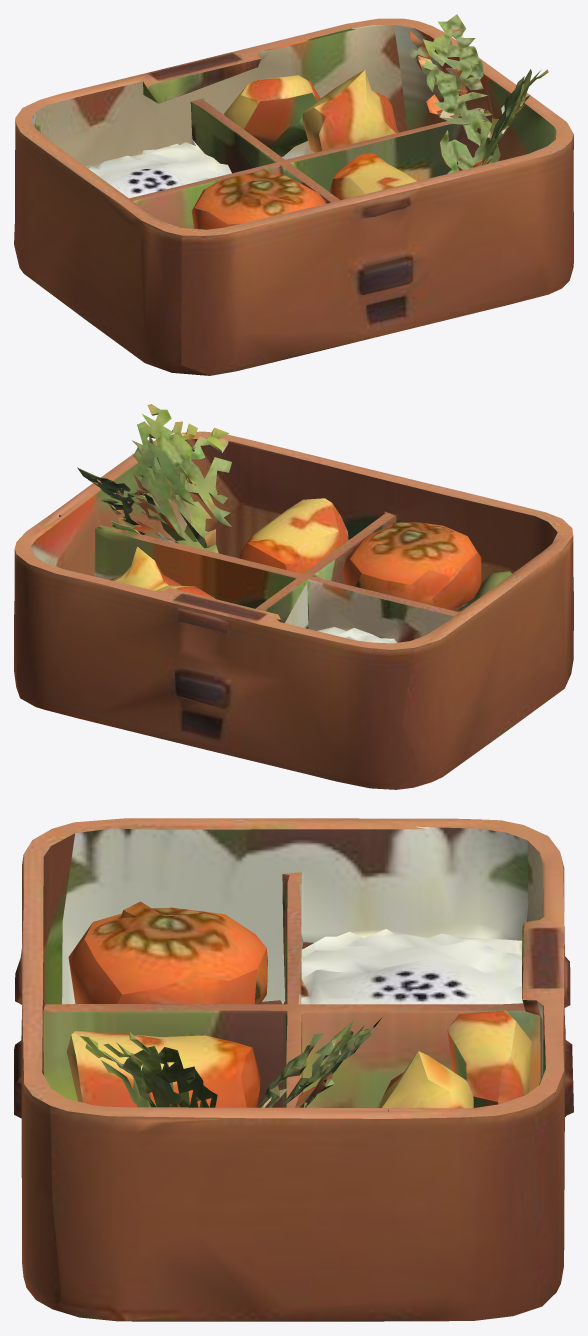
Rendered from forest_bento.glb.
3 renders of one model, top to bottom at view 1: azimuth 30°, elevation 25°; view 2: azimuth 150°, elevation 25°; view 3: azimuth 270°, elevation 25°, orthographic. The views are drawn at different scales.
Visible parts, largest first — view 1: item_forest_bento; view 2: item_forest_bento; view 3: item_forest_bento.
Part boxes in pixels (box(x1,y1,x2,y2)): item_forest_bento: box(14, 14, 573, 375); item_forest_bento: box(14, 404, 573, 789); item_forest_bento: box(14, 818, 573, 1321).
Size of the model in its own units: 1 by 0.4247 by 0.7832.
Materials: 1 (1 with a texture image).
